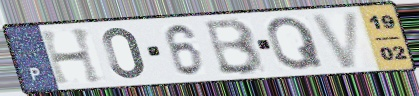0: (100, 26, 147, 81)
6: (164, 23, 207, 77)
B: (203, 16, 267, 76)
H: (37, 26, 107, 86)
Q: (265, 15, 327, 72)
V: (307, 9, 362, 71)
